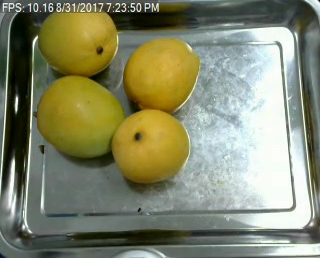Mango: (37, 76, 122, 160), (36, 3, 118, 77), (110, 109, 189, 184), (123, 39, 198, 110)
